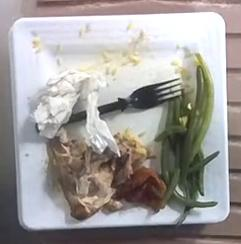green_beans: (155, 49, 220, 210)
